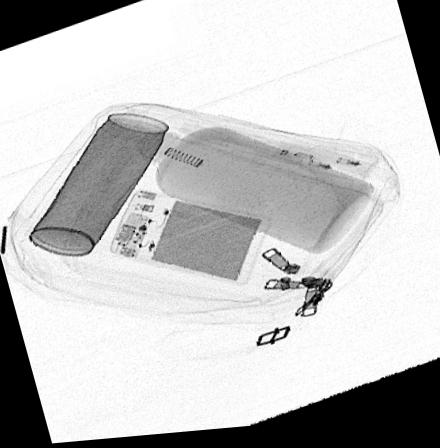Powerbank: (107, 190, 272, 291)
